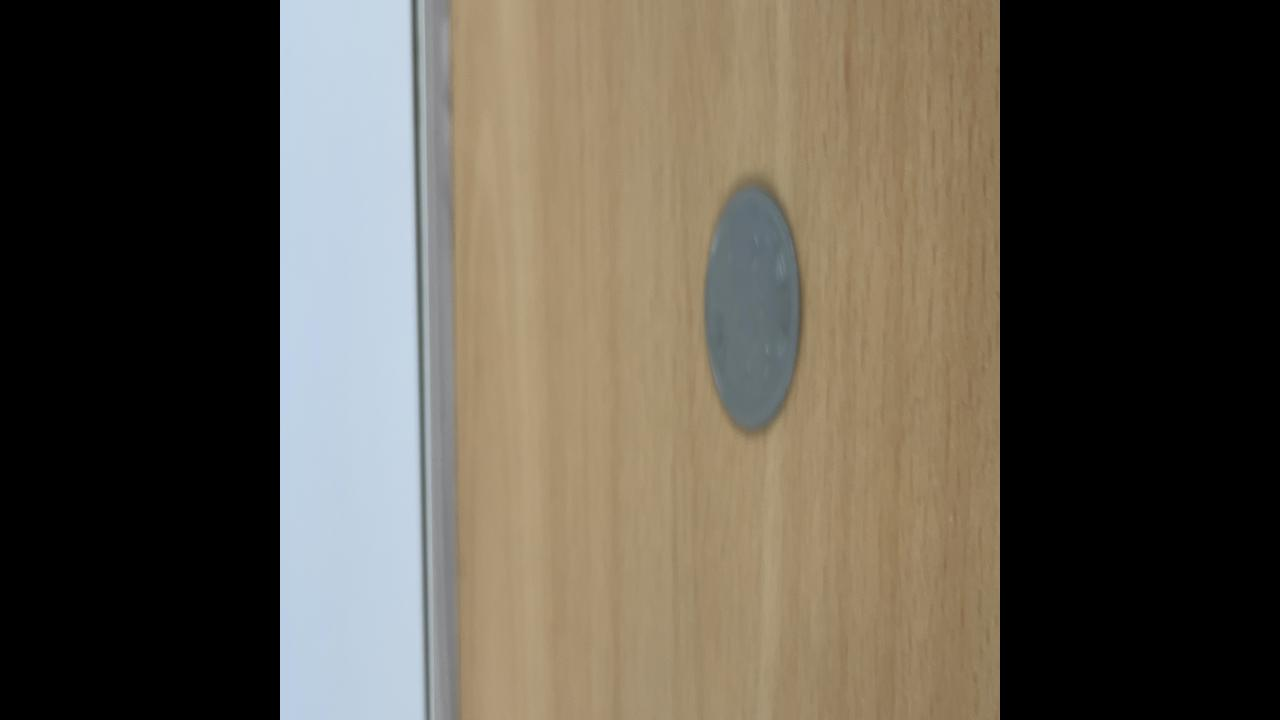coin: (702, 179, 802, 435)
